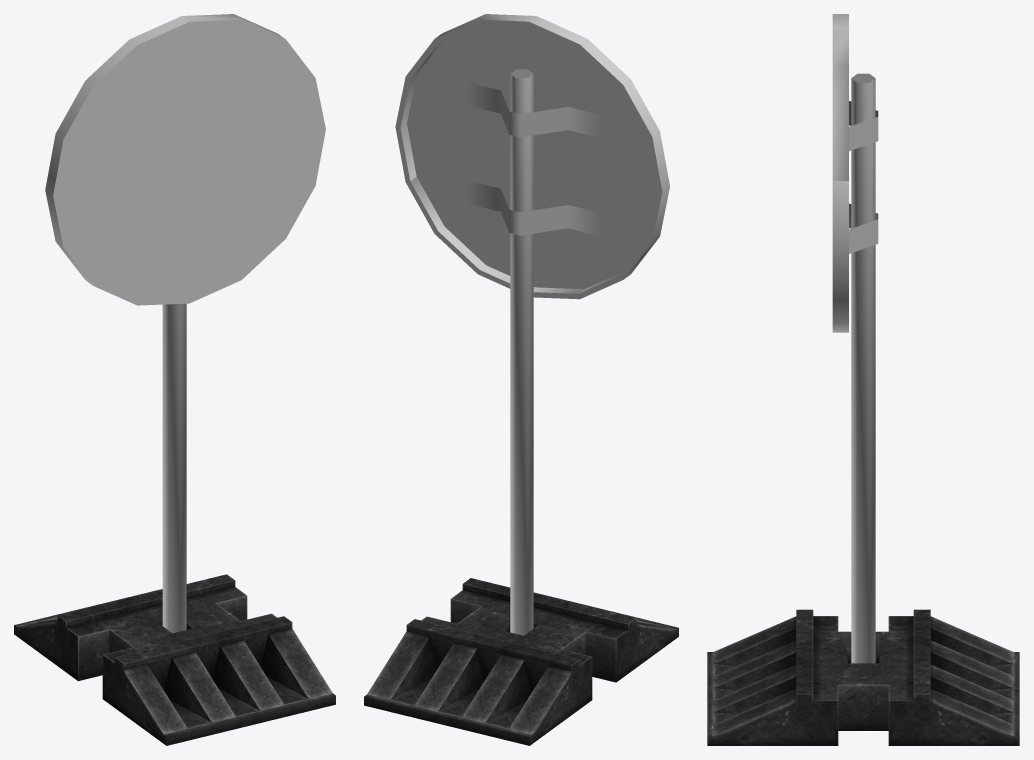
The model's file is ProhibitionTemporary_NoParking.fbx.
3 renders of one model, left to right at view 1: azimuth 30°, elevation 25°; view 2: azimuth 150°, elevation 25°; view 3: azimuth 270°, elevation 25°, orthographic. The views are drawn at different scales.
Visible parts, largest first — view 1: ProhibitionTemporary_NoParking_LOD0; view 2: ProhibitionTemporary_NoParking_LOD0; view 3: ProhibitionTemporary_NoParking_LOD0.
Part boxes in pixels (x1,y1,x2,y2): ProhibitionTemporary_NoParking_LOD0: (14,14,335,745); ProhibitionTemporary_NoParking_LOD0: (364,14,678,745); ProhibitionTemporary_NoParking_LOD0: (707,14,1019,745).
Size of what is drawn, in the model's own units: 0.7096 by 1.64 by 0.6866.
